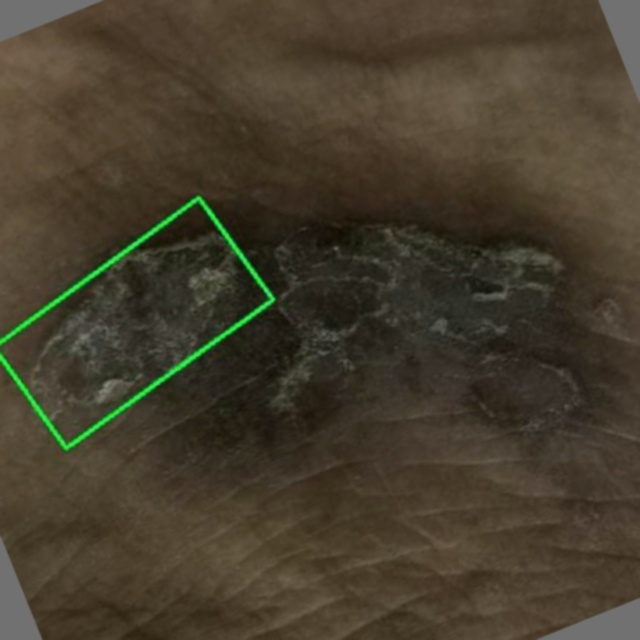Eczema: (0, 198, 272, 448)
